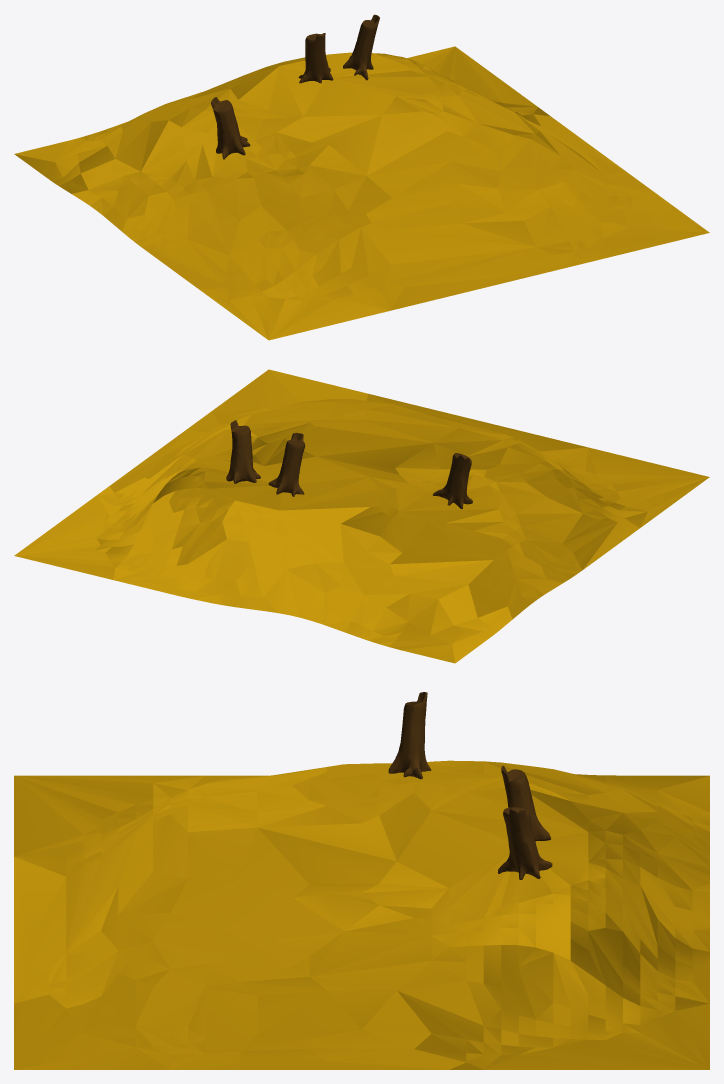
File: island1.FBX
3 views of the same model, one above another, from view 1: azimuth 30°, elevation 25°; view 2: azimuth 150°, elevation 25°; view 3: azimuth 270°, elevation 25° (orthographic). The views are drawn at different scales.
Visible parts, largest first — view 1: plane, teStump, teStump001, teStump002; view 2: plane, teStump001, teStump002, teStump; view 3: plane, teStump001, teStump, teStump002.
Part boxes in pixels (x1,y1,x2,y2): plane: (14,46,709,340); teStump: (211,97,250,159); teStump001: (343,14,379,80); teStump002: (298,33,333,83); plane: (14,369,709,663); teStump001: (226,420,260,483); teStump002: (268,432,305,496); teStump: (433,453,472,508); plane: (14,760,709,1069); teStump001: (497,807,552,879); teStump: (388,692,431,779); teStump002: (501,765,551,841).
Bounding box in the file's own units: 118 × 30.39 × 118.
